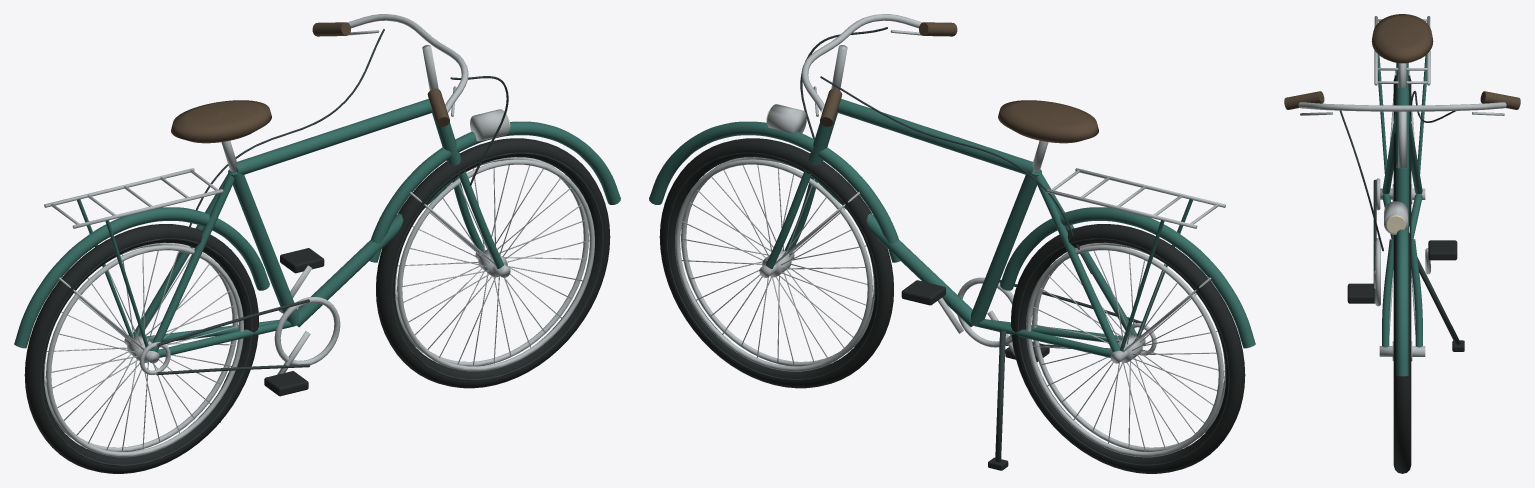
Rendered from Bicycle.glb.
The picture shows the model from 3 angles, left to right: view 1: azimuth 30°, elevation 25°; view 2: azimuth 150°, elevation 25°; view 3: azimuth 270°, elevation 25°; orthographic projection. The views are drawn at different scales.
Visible parts, largest first — view 1: Bicycle_NX_BrushedAlloy, Bicycle_NX_TireRubber, Bicycle_NX_EnamelTeal, Bicycle_NX_BlackSteel, Bicycle_NX_SaddleLeather; view 2: Bicycle_NX_BrushedAlloy, Bicycle_NX_TireRubber, Bicycle_NX_EnamelTeal, Bicycle_NX_BlackSteel, Bicycle_NX_SaddleLeather; view 3: Bicycle_NX_EnamelTeal, Bicycle_NX_BrushedAlloy, Bicycle_NX_TireRubber, Bicycle_NX_SaddleLeather, Bicycle_NX_BlackSteel, Bicycle_NX_LampIvory.
Part boxes in pixels (left/top/right/bottom): Bicycle_NX_BrushedAlloy: left=44, top=14, right=594, bottom=457; Bicycle_NX_TireRubber: left=24, top=138, right=610, bottom=473; Bicycle_NX_EnamelTeal: left=14, top=98, right=620, bottom=357; Bicycle_NX_BlackSteel: left=40, top=29, right=603, bottom=466; Bicycle_NX_SaddleLeather: left=171, top=22, right=449, bottom=143; Bicycle_NX_BrushedAlloy: left=675, top=14, right=1225, bottom=457; Bicycle_NX_TireRubber: left=659, top=138, right=1245, bottom=473; Bicycle_NX_EnamelTeal: left=649, top=98, right=1255, bottom=357; Bicycle_NX_BlackSteel: left=666, top=27, right=1229, bottom=466; Bicycle_NX_SaddleLeather: left=820, top=22, right=1098, bottom=143; Bicycle_NX_EnamelTeal: left=1378, top=54, right=1426, bottom=376; Bicycle_NX_BrushedAlloy: left=1298, top=16, right=1506, bottom=361; Bicycle_NX_TireRubber: left=1347, top=75, right=1464, bottom=473; Bicycle_NX_SaddleLeather: left=1284, top=14, right=1520, bottom=109; Bicycle_NX_BlackSteel: left=1339, top=91, right=1460, bottom=344; Bicycle_NX_LampIvory: left=1386, top=215, right=1405, bottom=233.
Size of the model in its own units: 1.83 by 1.04 by 0.6744.
